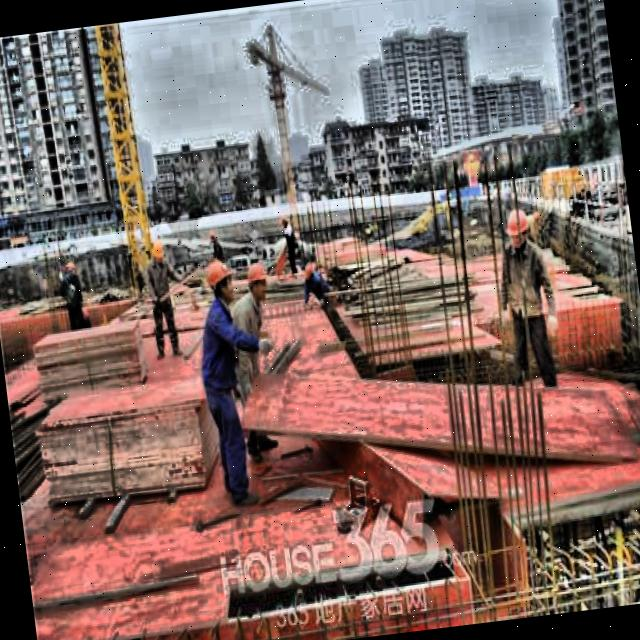helmet: (200, 253, 240, 306), (244, 254, 275, 306), (501, 202, 532, 253), (148, 236, 166, 266)
